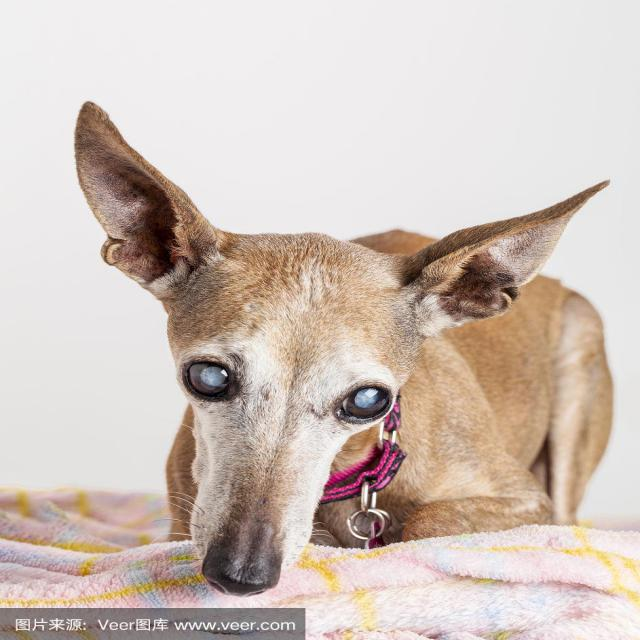eye: (180, 354, 243, 404), (328, 378, 394, 423)
